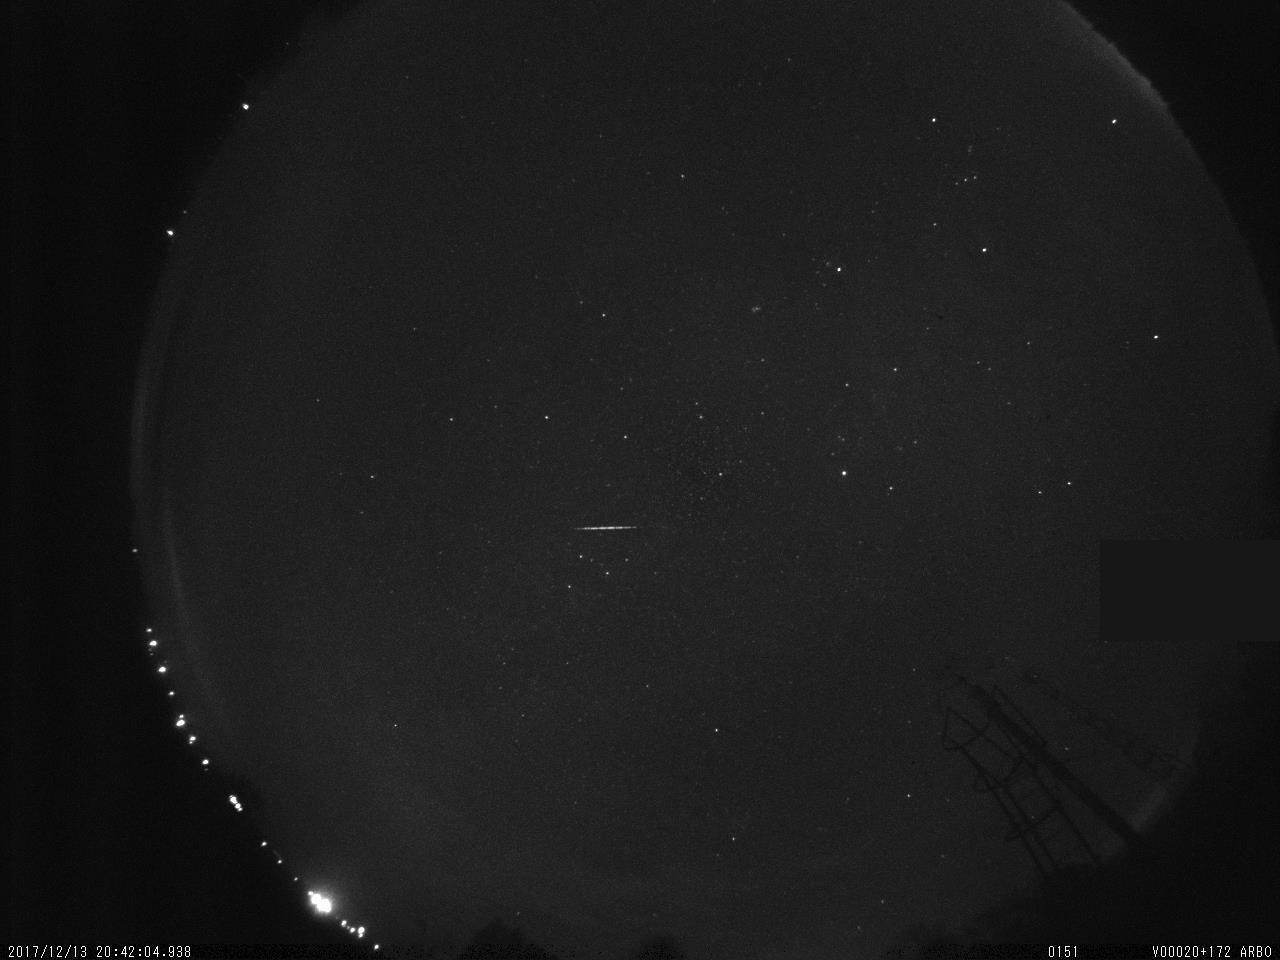meteor: (563, 500, 674, 556)
